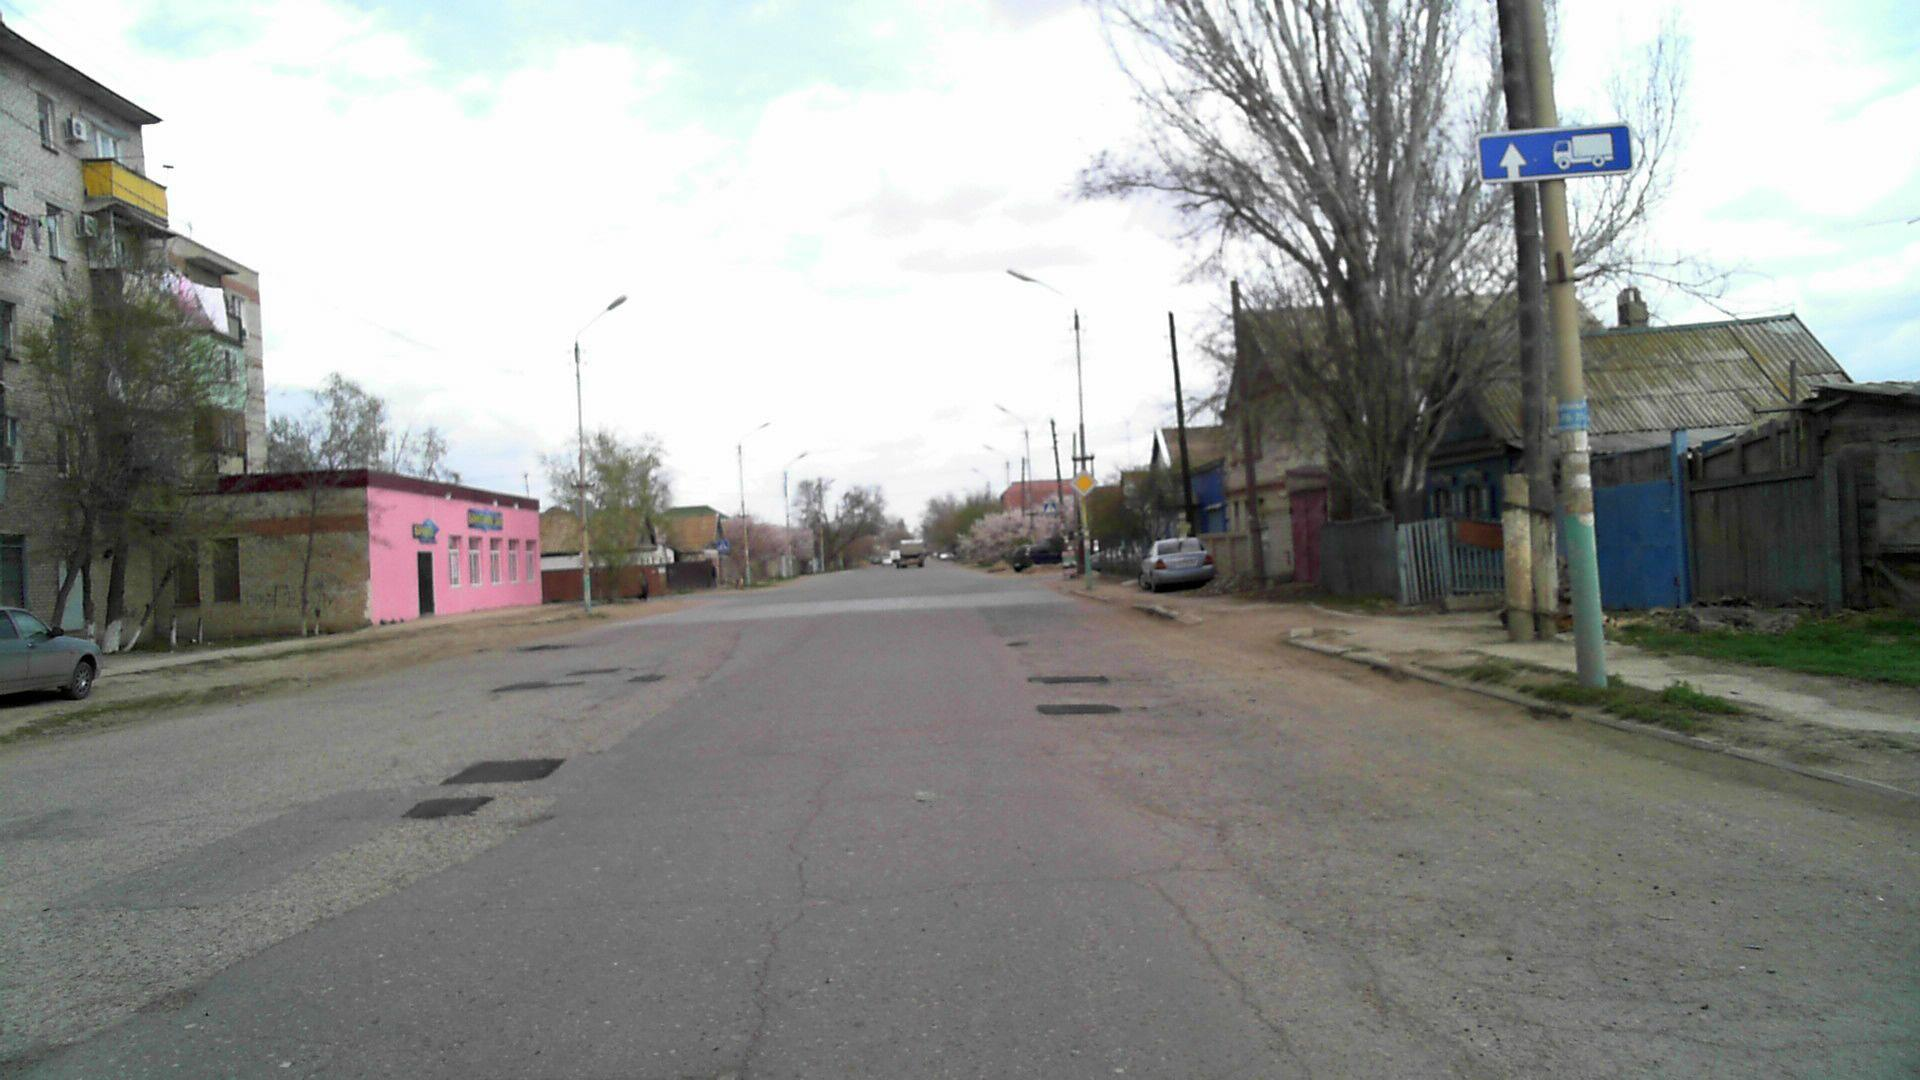2_1: (1069, 469, 1096, 496)
5_19_1: (1043, 501, 1060, 516)
5_19_2: (716, 538, 729, 553)
6_15_1: (1478, 128, 1631, 175)
